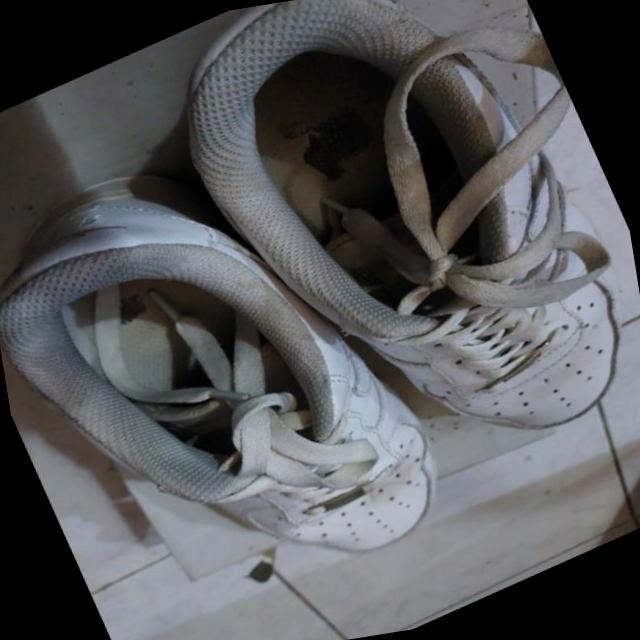nike_original_airforce: (0, 74, 493, 640), (137, 0, 640, 539)
